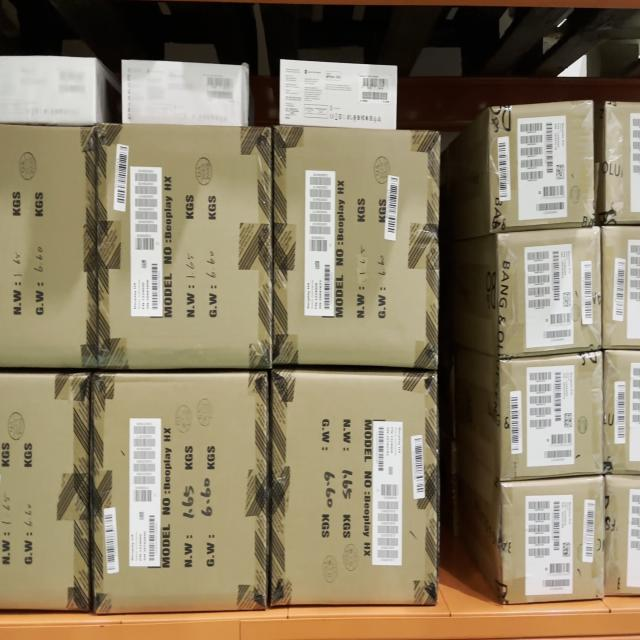box: (98, 127, 272, 370), (94, 374, 268, 609), (274, 130, 440, 374), (271, 373, 439, 607), (502, 482, 604, 597), (501, 232, 601, 349), (489, 110, 594, 218), (501, 359, 602, 471), (122, 63, 248, 122), (280, 67, 398, 123)
